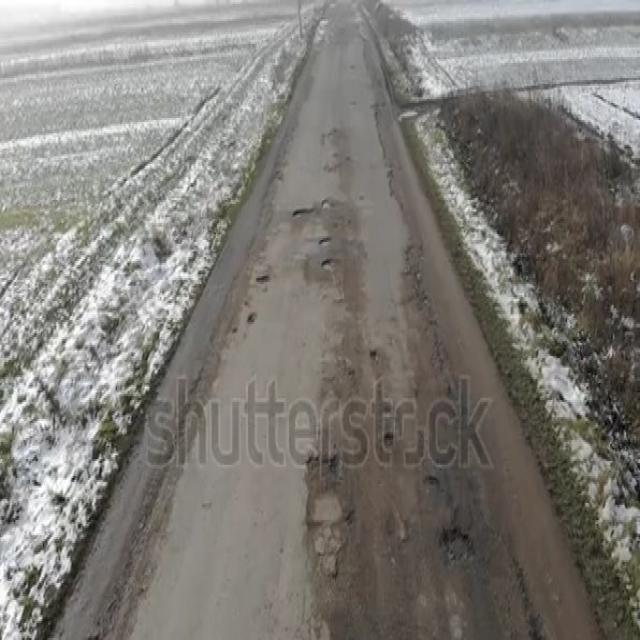pothole: (306, 399, 350, 582), (290, 195, 341, 283), (439, 523, 474, 563), (365, 339, 385, 378), (382, 417, 395, 458)
